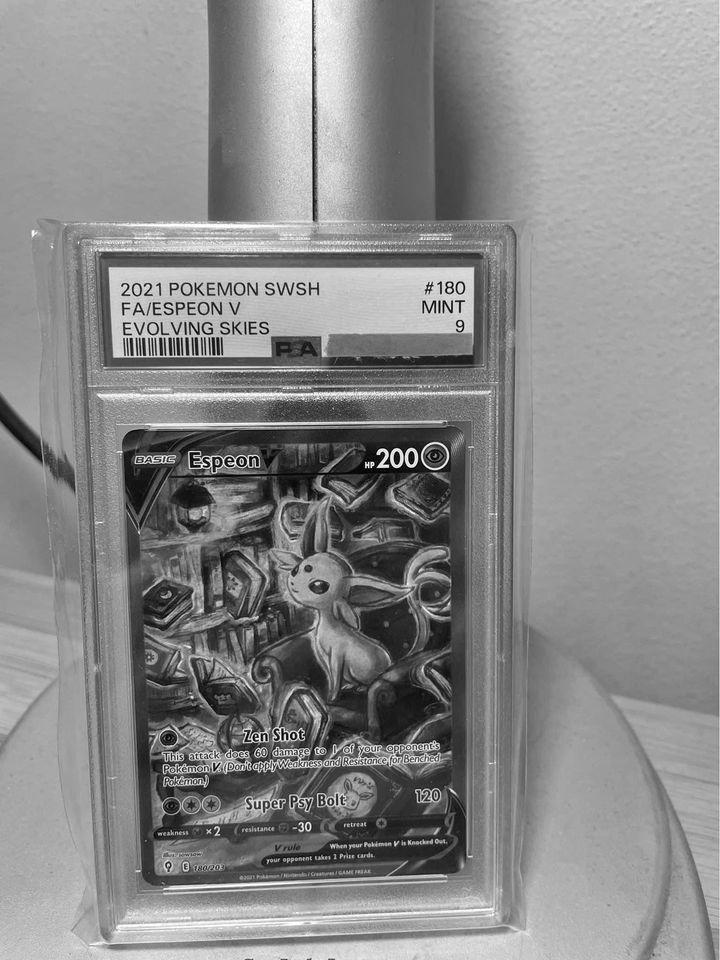card: (120, 426, 468, 887)
